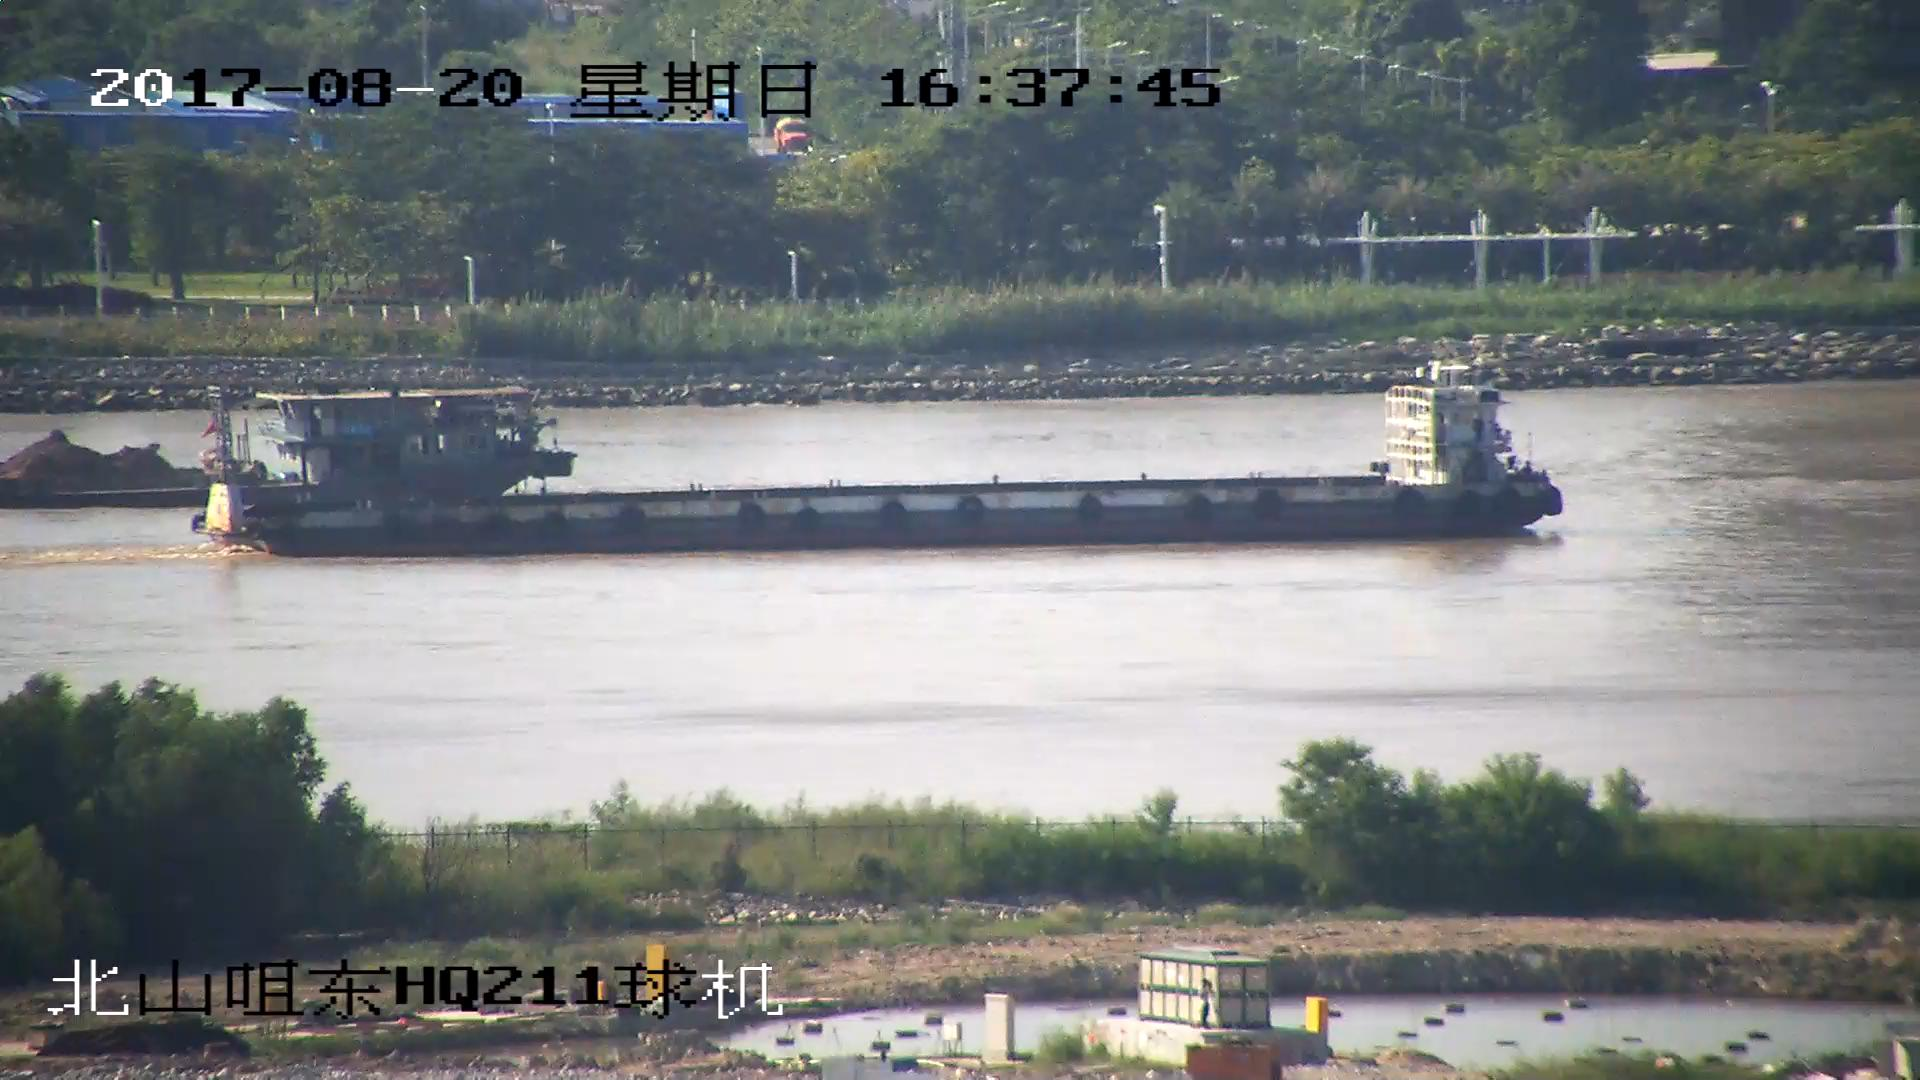general cargo ship: (204, 359, 1563, 556)
ore carrier: (1, 397, 567, 511)
